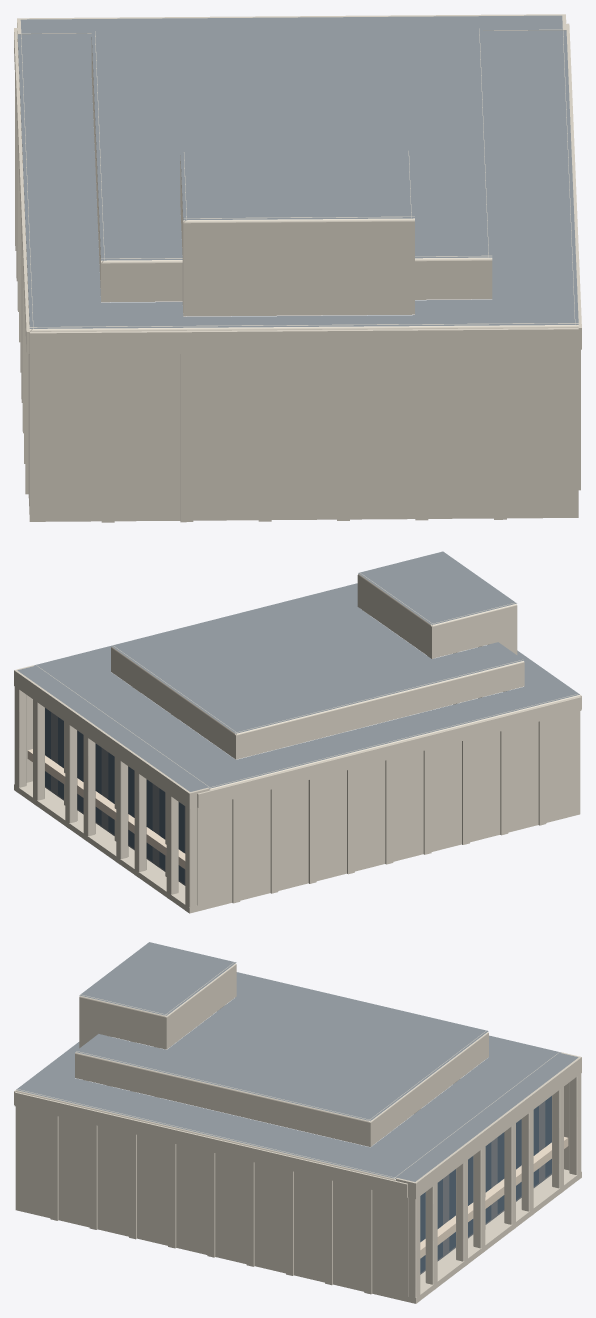
3 renders of one model, top to bottom at view 1: azimuth 30°, elevation 25°; view 2: azimuth 150°, elevation 25°; view 3: azimuth 270°, elevation 25°, orthographic. The views are drawn at different scales.
Visible parts, largest first — view 1: david-h-koch-theater; view 2: david-h-koch-theater; view 3: david-h-koch-theater.
Part boxes in pixels (box(x1,y1,x2,y2)): david-h-koch-theater: box(14, 14, 581, 522); david-h-koch-theater: box(14, 551, 581, 913); david-h-koch-theater: box(14, 942, 581, 1303).
Size of the model in its own units: 90.48 by 34.5 by 98.28.
